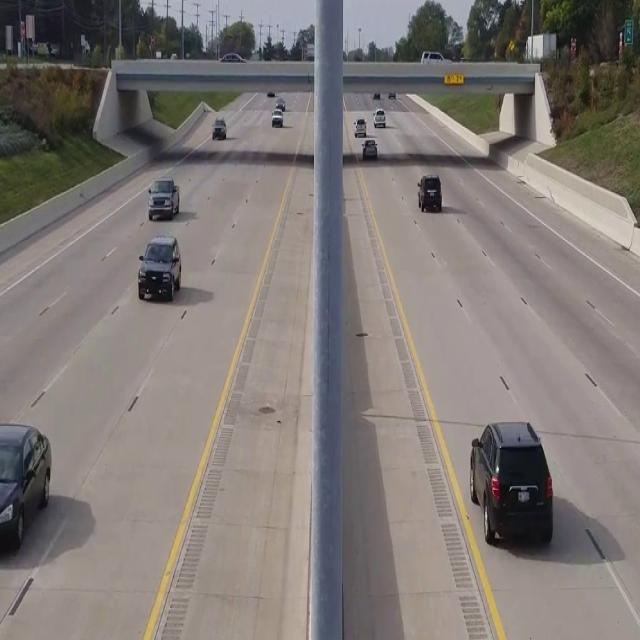car: (470, 421, 552, 545), (0, 421, 51, 552), (137, 234, 181, 300), (147, 178, 179, 220), (417, 174, 441, 212), (212, 117, 226, 140), (362, 139, 377, 160)
